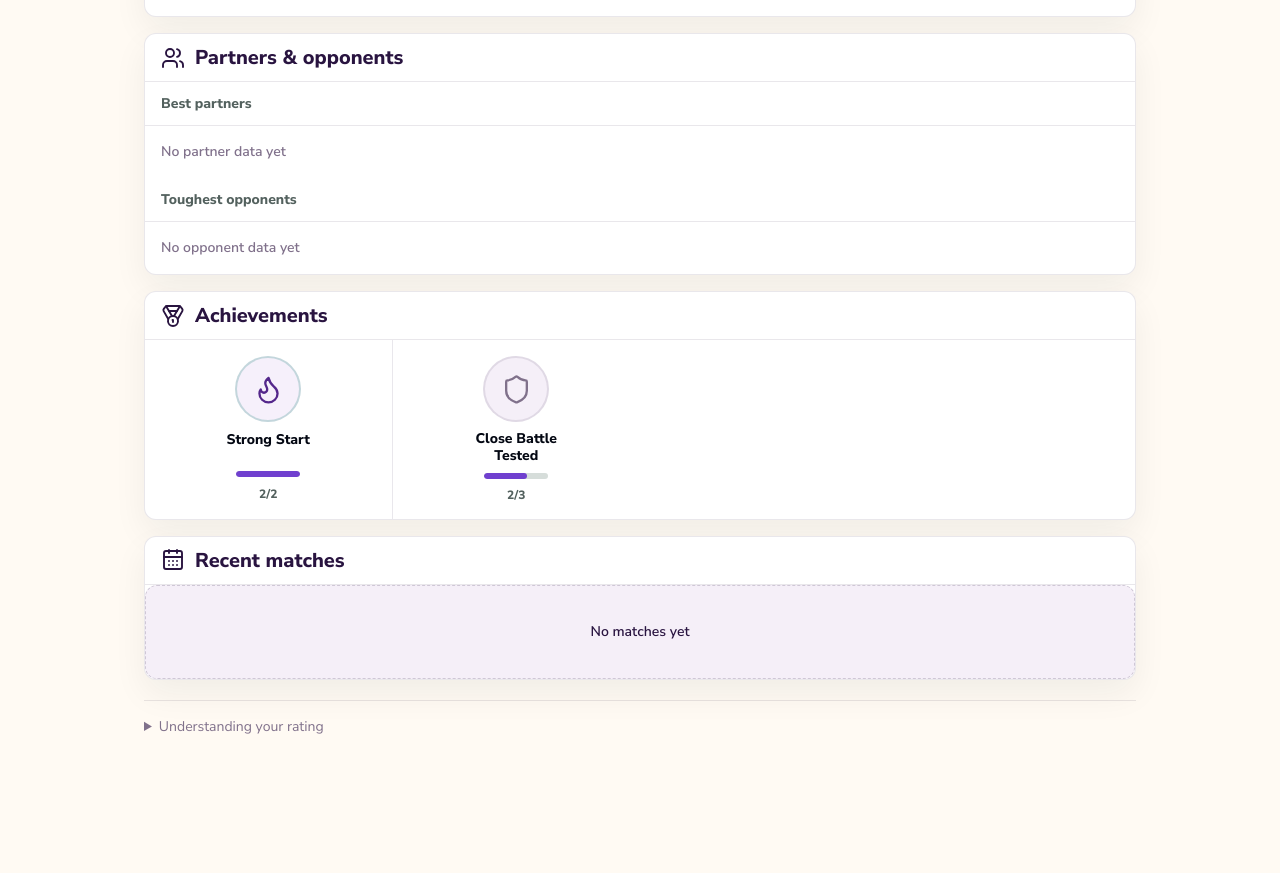
Test: PlayerProfileView › renders concrete permanent achievement badges with exact progress
This screenshot has width=1280, height=873.
(page scrolled)
Expected: the text "Win your first 2 matches." is not shown
Click the button "Strong Start 2/2": coordinates (269, 430) [145,340,392,519]
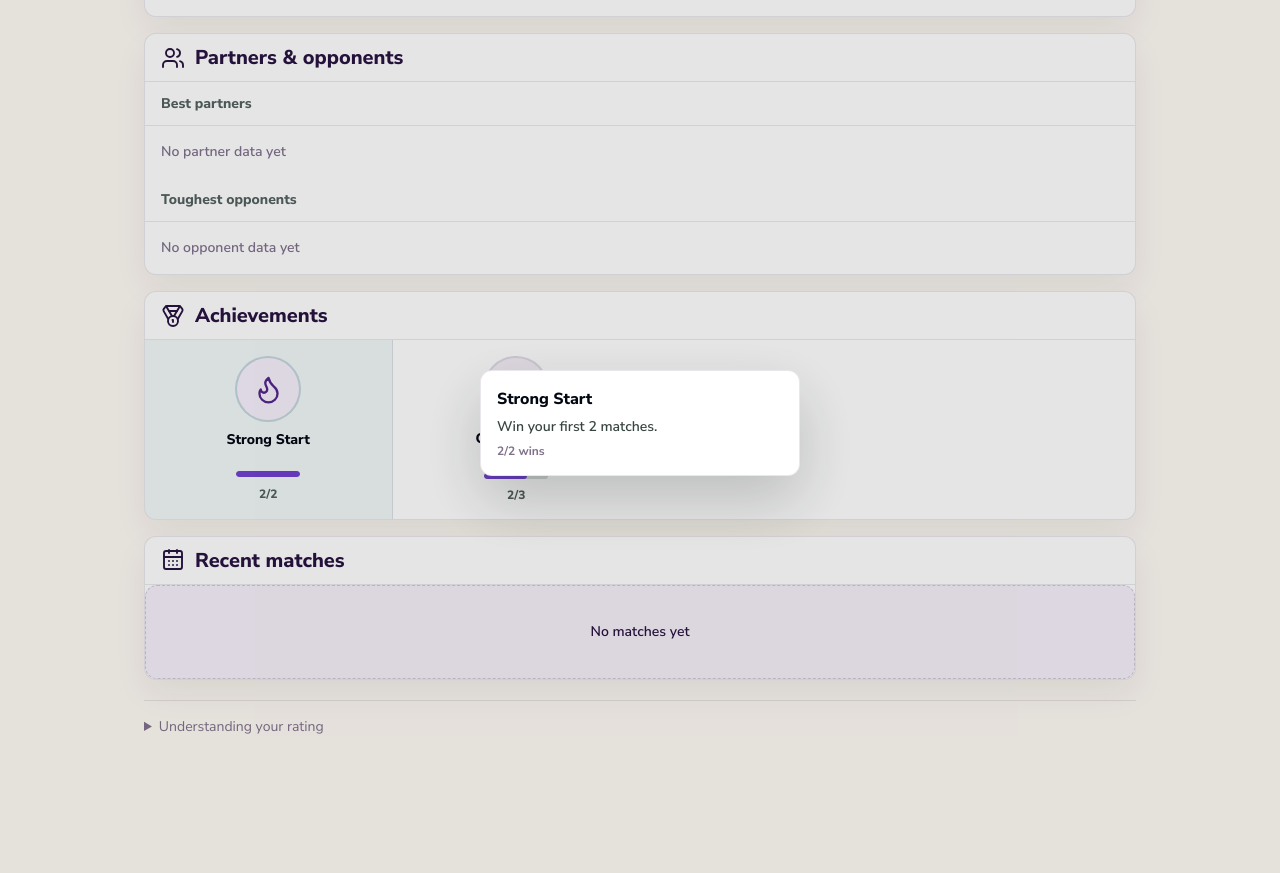
Expected: the text "Win your first 2 matches." is shown, [497,417,657,436]
